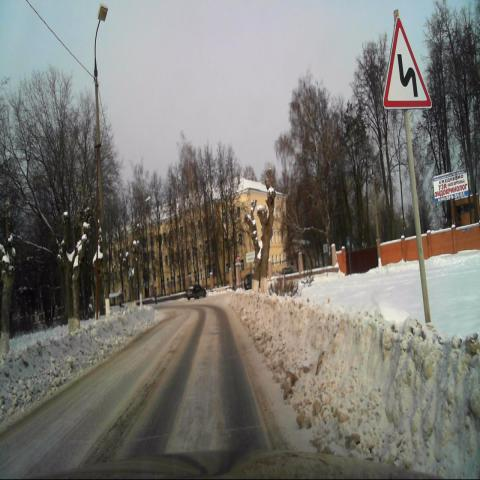1_12_2: (382, 17, 432, 108)
